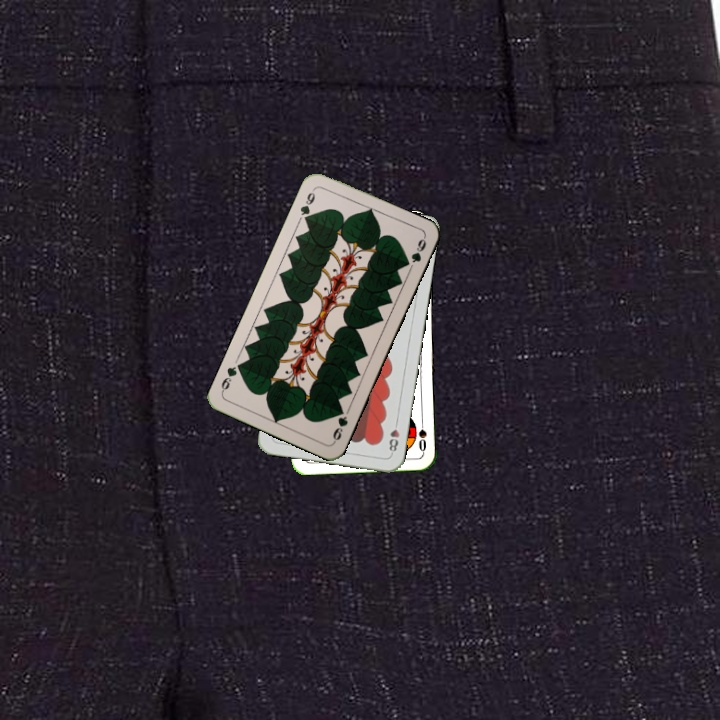G9: (329, 404, 351, 445), (296, 185, 318, 225)
H8: (385, 416, 402, 457)
SO: (414, 414, 429, 454)
